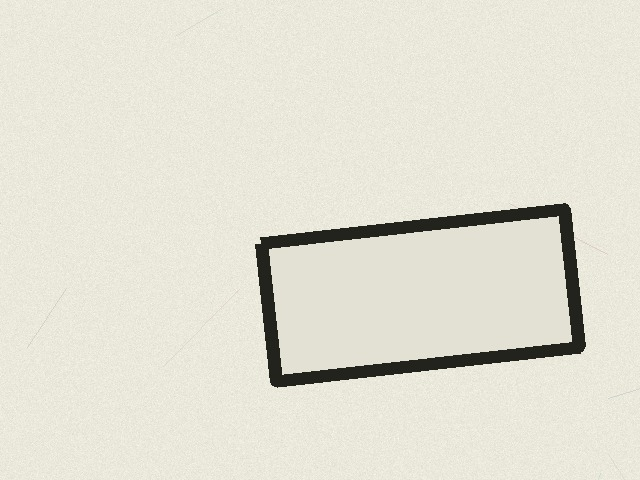parking_area: (261, 209, 579, 381)
